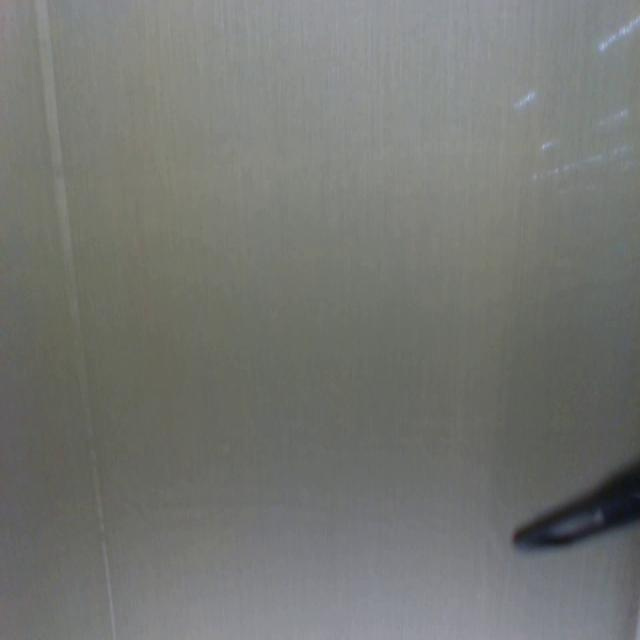crease: (30, 0, 118, 639)
